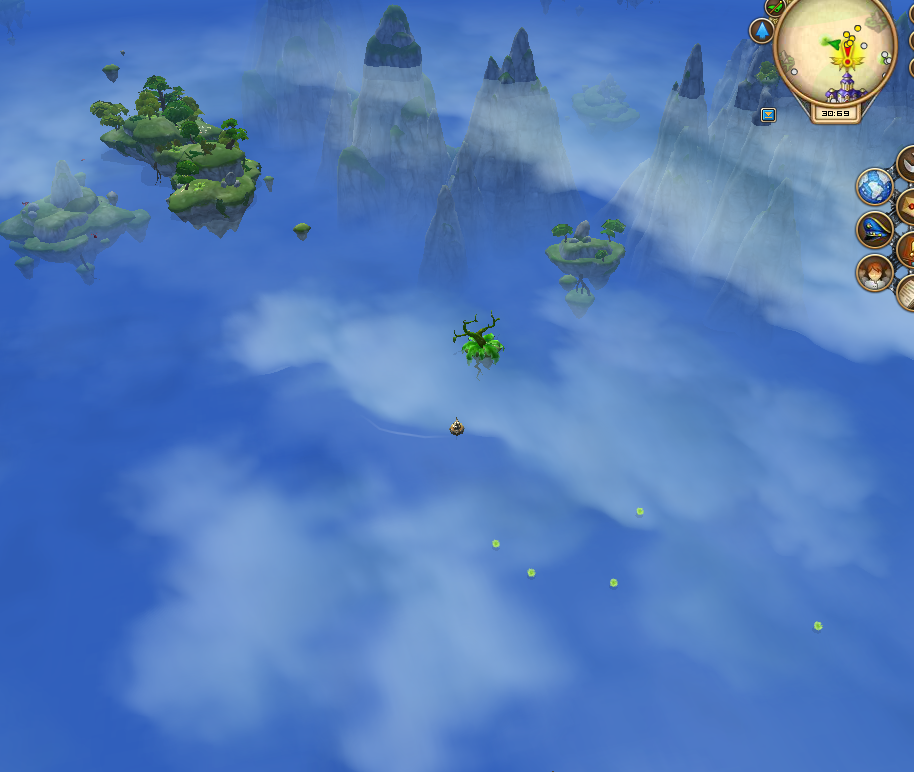dandelion-empty: (448, 308, 509, 374)
fluff: (489, 535, 502, 550), (812, 619, 824, 632), (525, 566, 537, 579), (608, 575, 619, 588), (635, 505, 645, 519)
